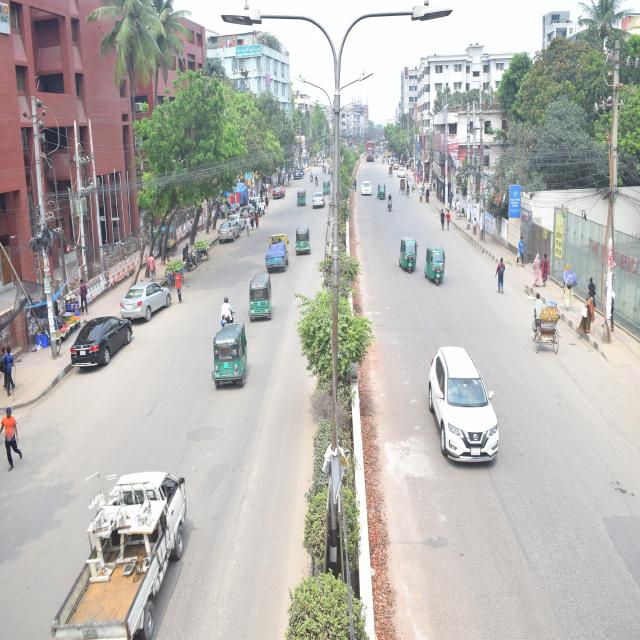car: (426, 346, 505, 468), (62, 313, 134, 372), (115, 280, 175, 324), (214, 221, 242, 246), (311, 190, 326, 210), (359, 180, 374, 198)
motorbike: (386, 191, 396, 218)
pickup-van: (54, 464, 192, 640), (264, 230, 290, 280)
